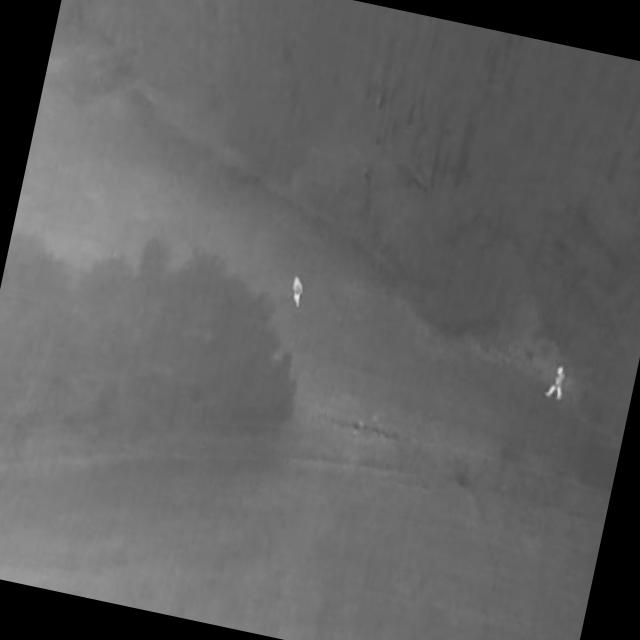person: (543, 365, 568, 402), (289, 276, 307, 309)
